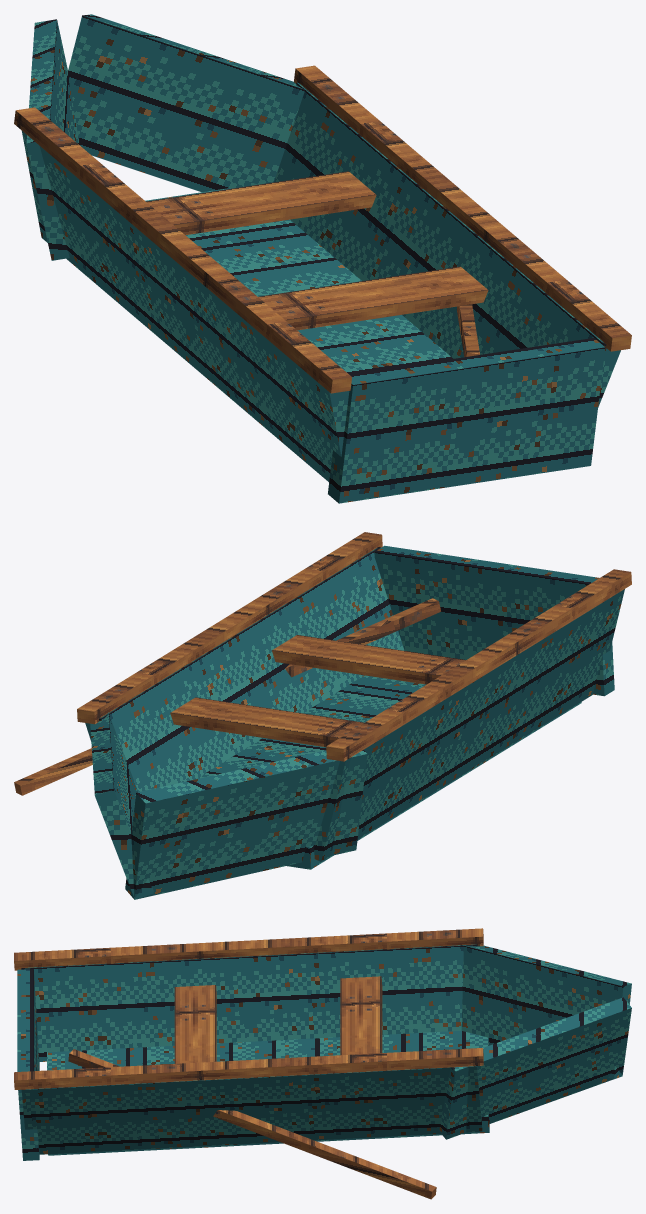
Rendered from furia_boat.glb.
3 renders of one model, top to bottom at view 1: azimuth 30°, elevation 25°; view 2: azimuth 150°, elevation 25°; view 3: azimuth 270°, elevation 25°, orthographic. The views are drawn at different scales.
Visible parts, largest first — view 1: Boat; view 2: Boat; view 3: Boat.
Part boxes in pixels (box(x1,y1,x2,y2)): Boat: box(14, 14, 631, 503); Boat: box(14, 532, 631, 899); Boat: box(14, 928, 631, 1199).
Size of the model in its own units: 2.53 by 1.13 by 4.47.
2 materials, 2 textured.
